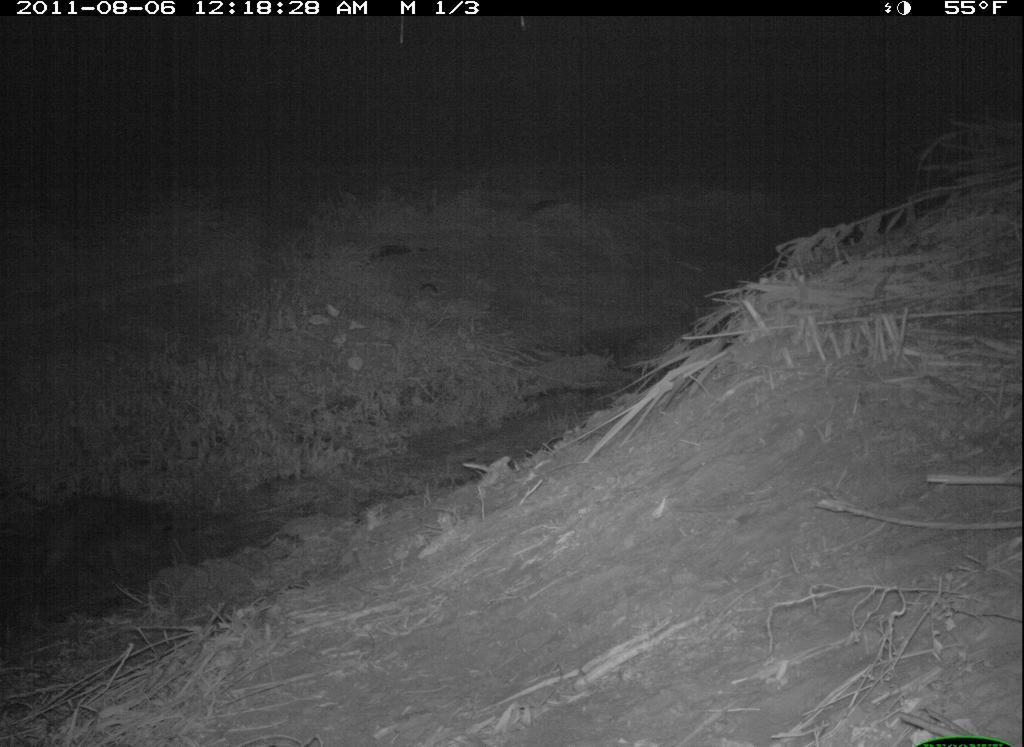raccoon: (33, 486, 189, 597)
